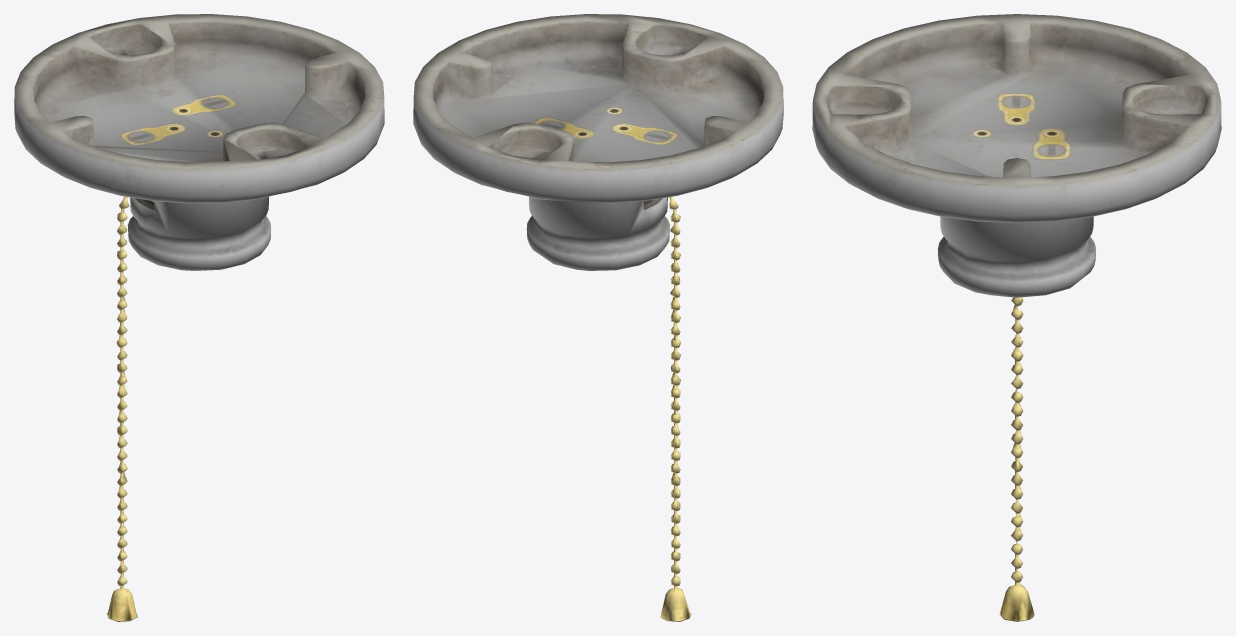
The model's file is pull_chain_light_socket.glb.
3 renders of one model, left to right at view 1: azimuth 30°, elevation 25°; view 2: azimuth 150°, elevation 25°; view 3: azimuth 270°, elevation 25°, orthographic. The views are drawn at different scales.
Parts seen in each view (by area): view 1: pull_chain_light_socket, pull_chain_light_socket_chain; view 2: pull_chain_light_socket, pull_chain_light_socket_chain; view 3: pull_chain_light_socket, pull_chain_light_socket_chain.
Part boxes in pixels (x1=…): pull_chain_light_socket: x1=14, y1=14, x2=384, y2=270; pull_chain_light_socket_chain: x1=106, y1=196, x2=137, y2=621; pull_chain_light_socket: x1=413, y1=14, x2=783, y2=270; pull_chain_light_socket_chain: x1=660, y1=196, x2=691, y2=621; pull_chain_light_socket: x1=812, y1=14, x2=1221, y2=297; pull_chain_light_socket_chain: x1=999, y1=297, x2=1034, y2=621.
Bounding box in the file's own units: 0.1103 × 0.1653 × 0.1103.
Materials: 1 (1 with a texture image).
